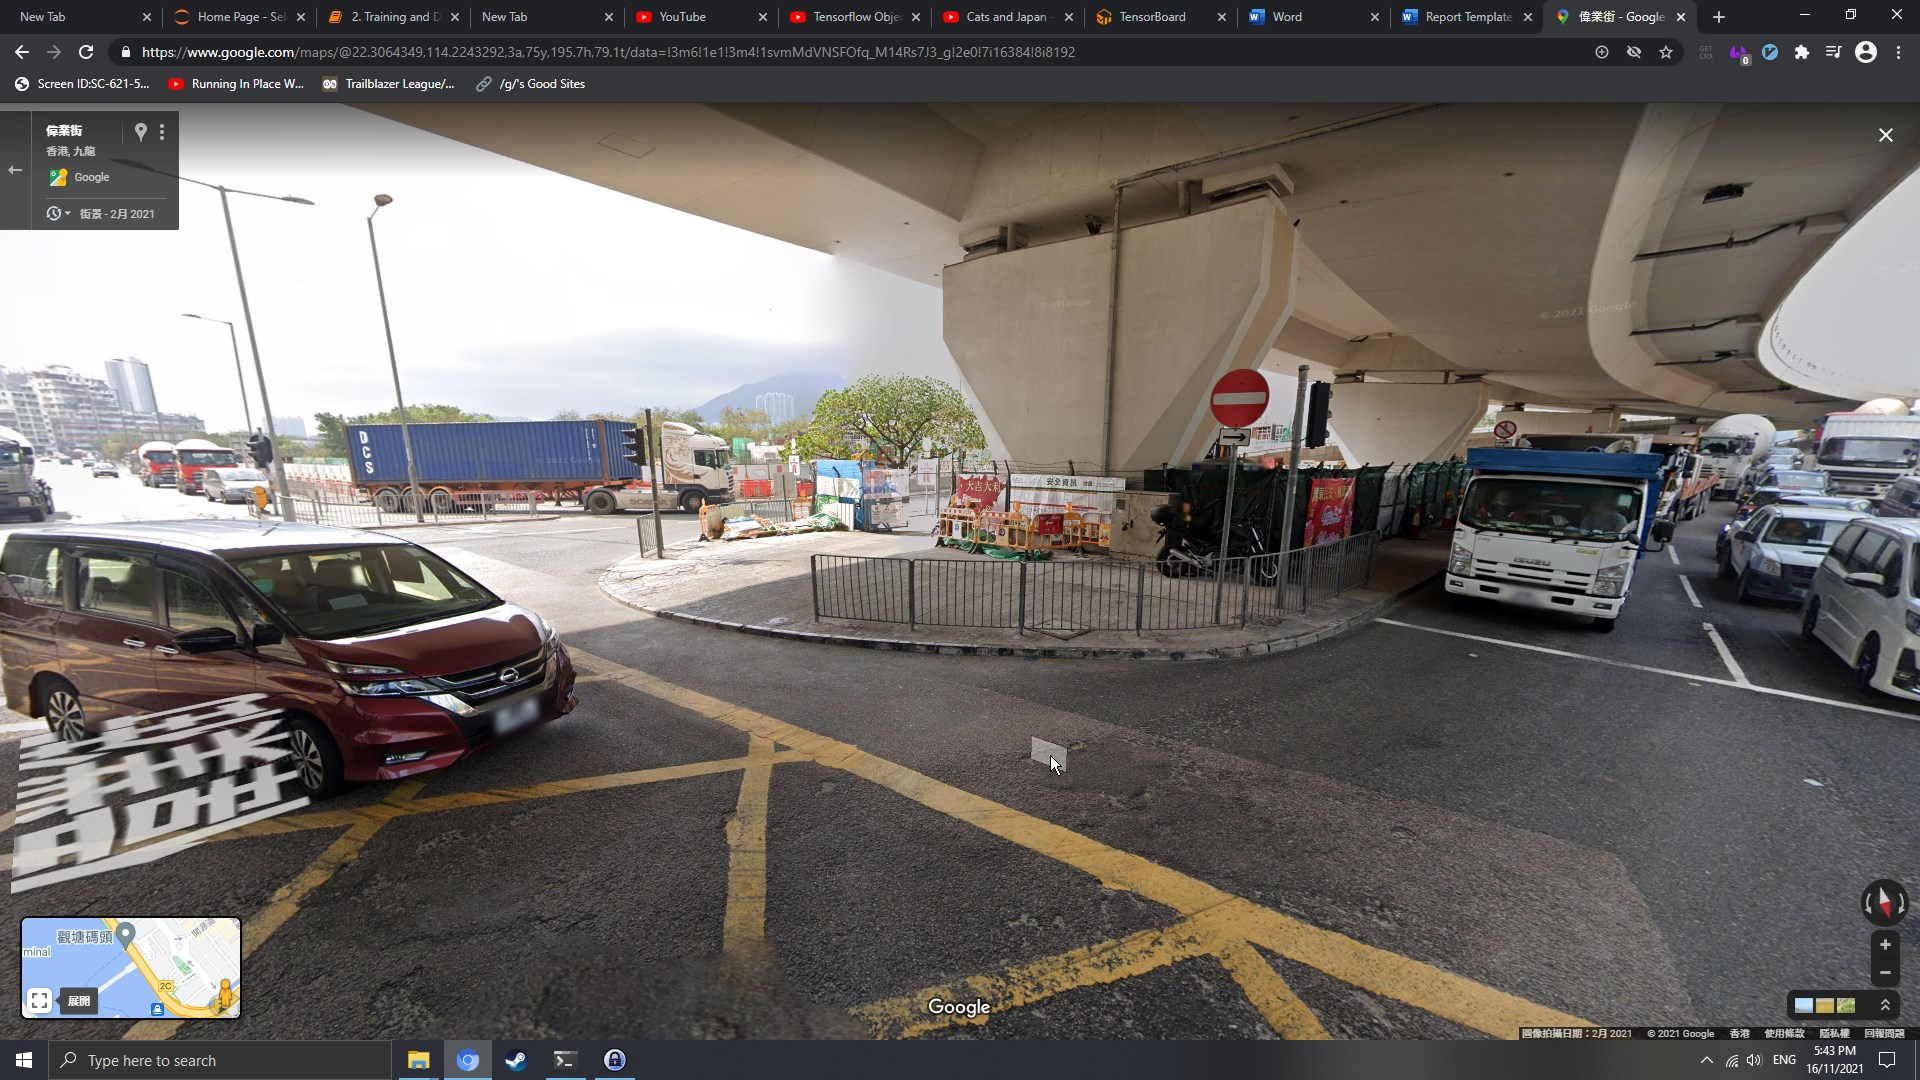NoEntry: (1211, 368, 1270, 429)
